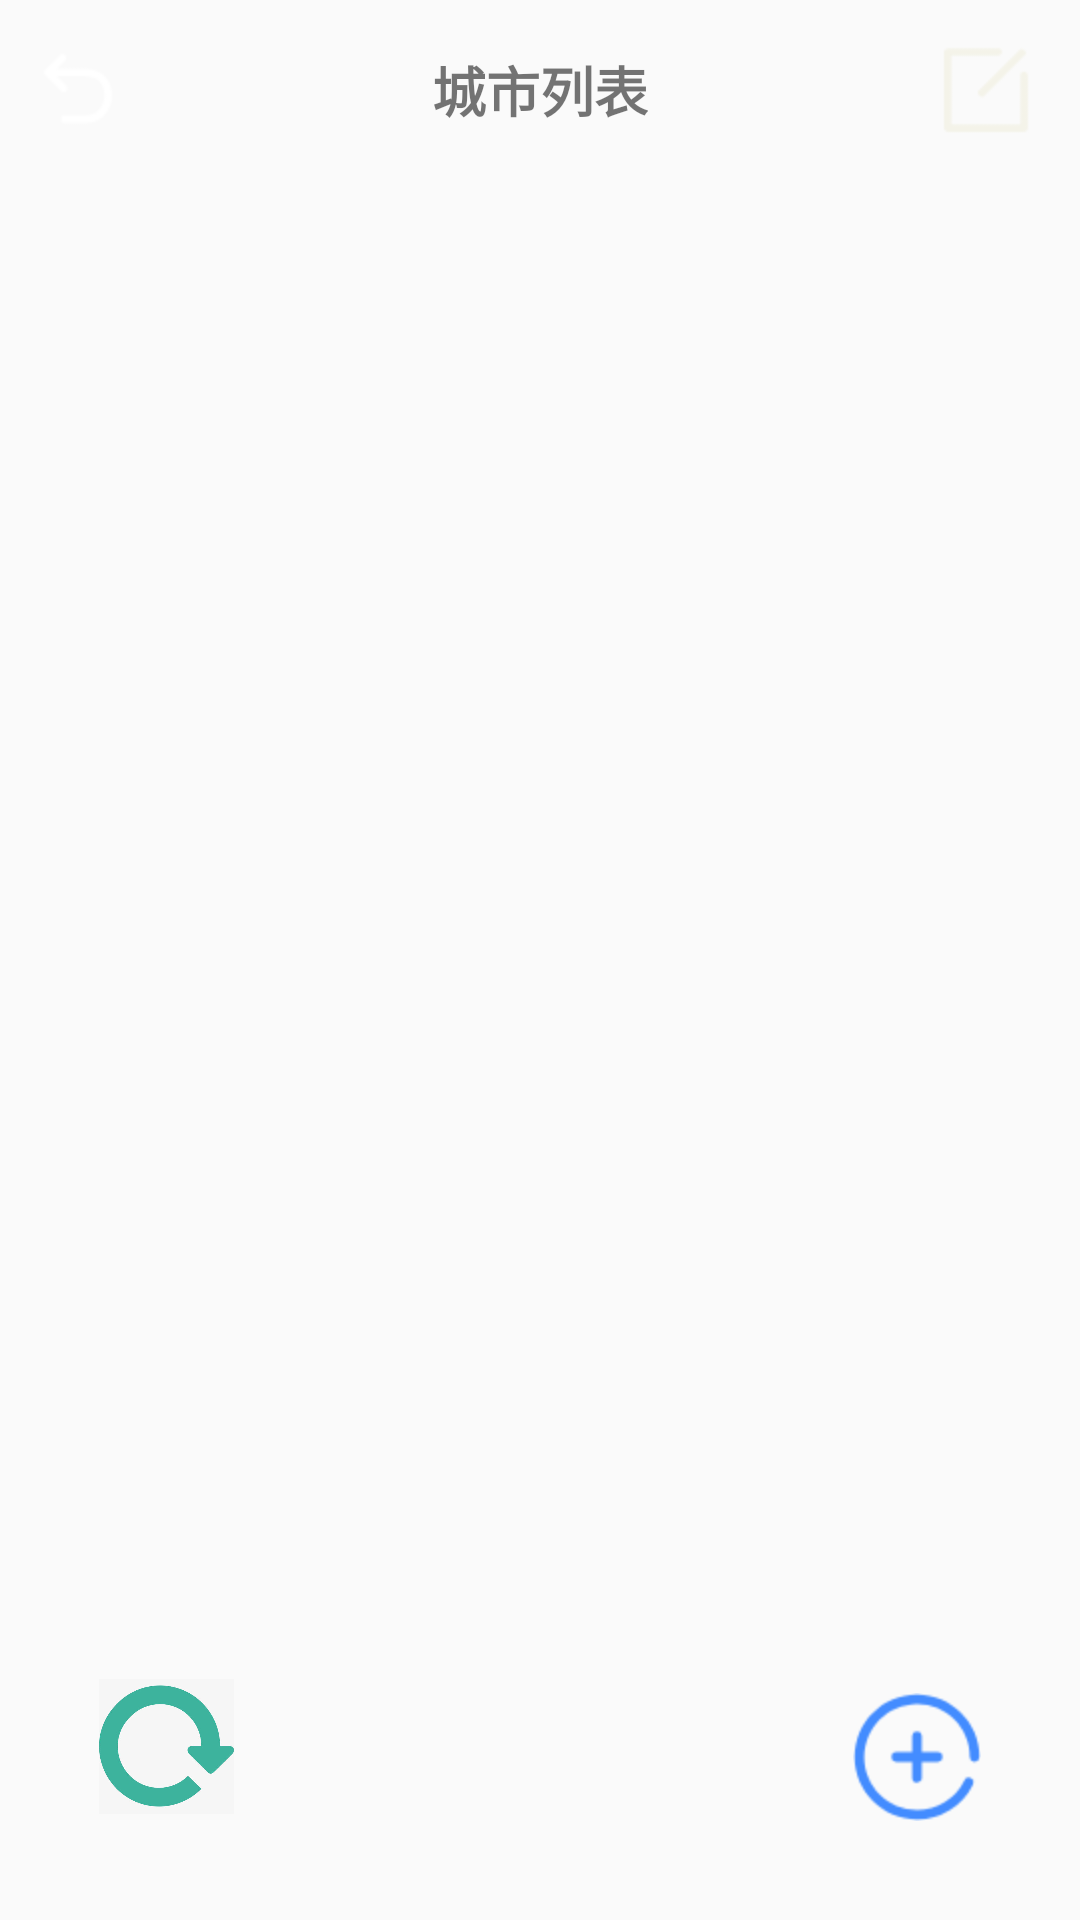

Icon bounding boxes for this 1080×1920 phone screenshot, format (x1, y1, x2, y2):
refresh: (99, 1685, 234, 1807)
tianjia: (853, 1693, 981, 1821)
